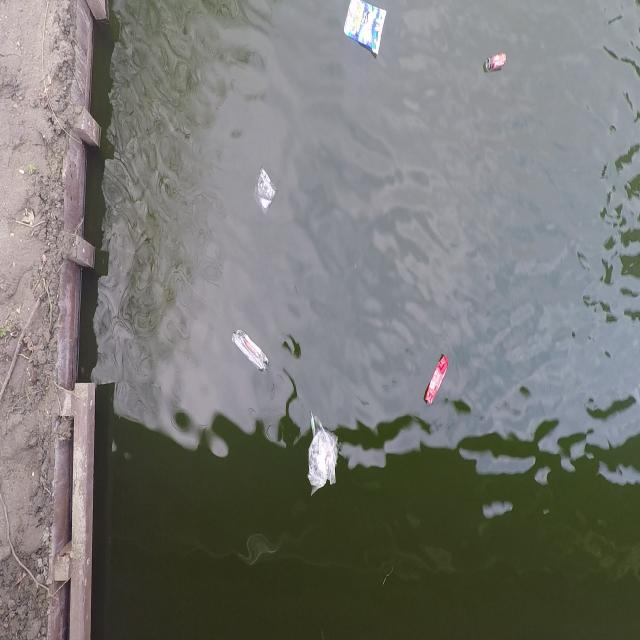Autre plastique: (343, 0, 388, 62)
Non plastique: (480, 47, 511, 76)
Sac plastique: (299, 404, 344, 504), (249, 155, 279, 216)
